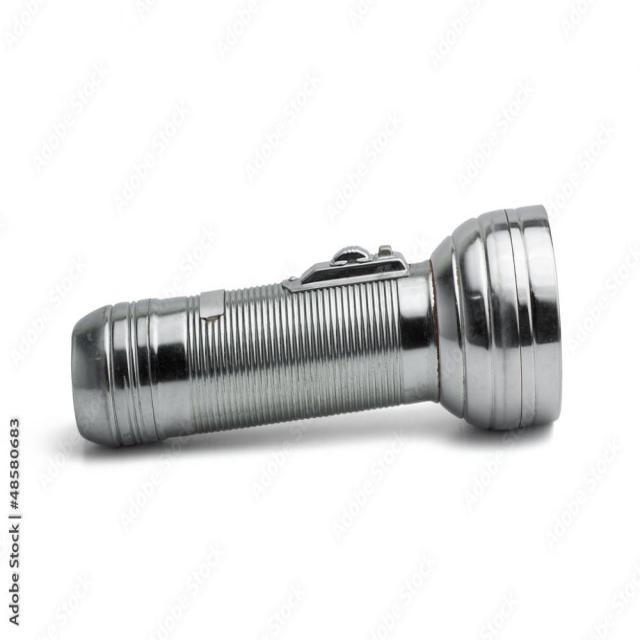Flashlight: (66, 196, 568, 462)
